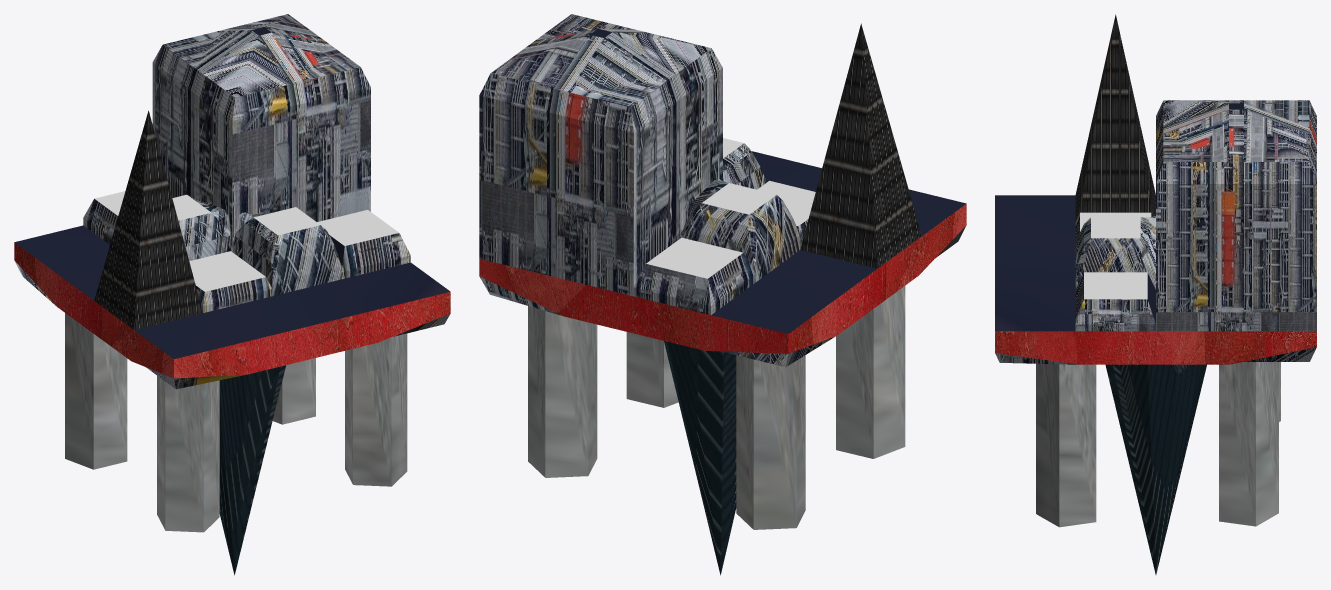
The model's file is oilRig.fbx.
3 views of the same model, side by side, from view 1: azimuth 30°, elevation 25°; view 2: azimuth 150°, elevation 25°; view 3: azimuth 270°, elevation 25° (orthographic). The views are drawn at different scales.
Parts seen in each view (by area): view 1: Oilrig; view 2: Oilrig; view 3: Oilrig.
Part boxes in pixels (box(x1,y1,x2,y2)): Oilrig: box(14, 14, 450, 575); Oilrig: box(479, 14, 966, 575); Oilrig: box(995, 14, 1316, 574).
Size of the model in its own units: 200 by 350 by 200.
Materials: 6 (5 with a texture image).
